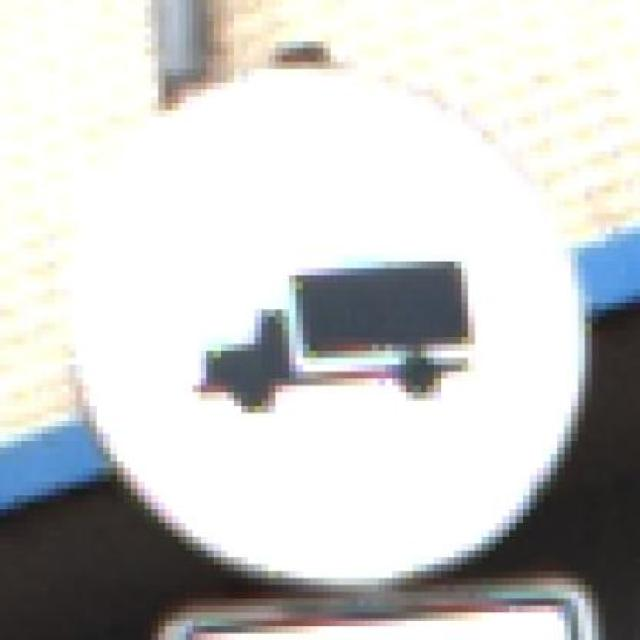Truck traffic is prohibited: (61, 54, 598, 586)
